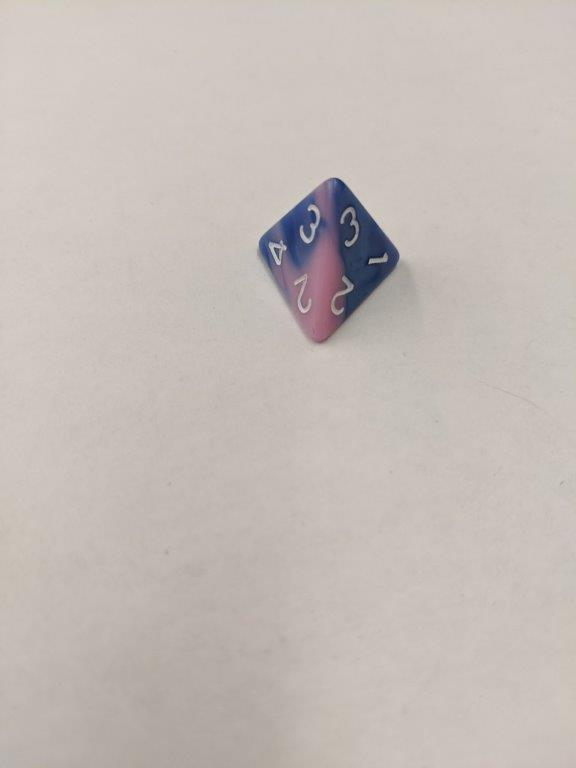d4-3: (253, 173, 405, 348)
